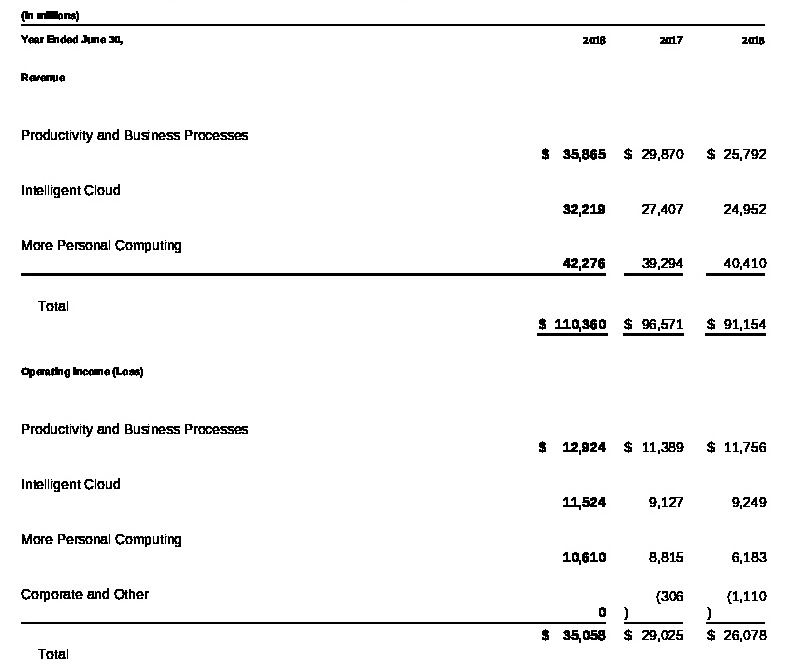table: (0, 0, 790, 664)
